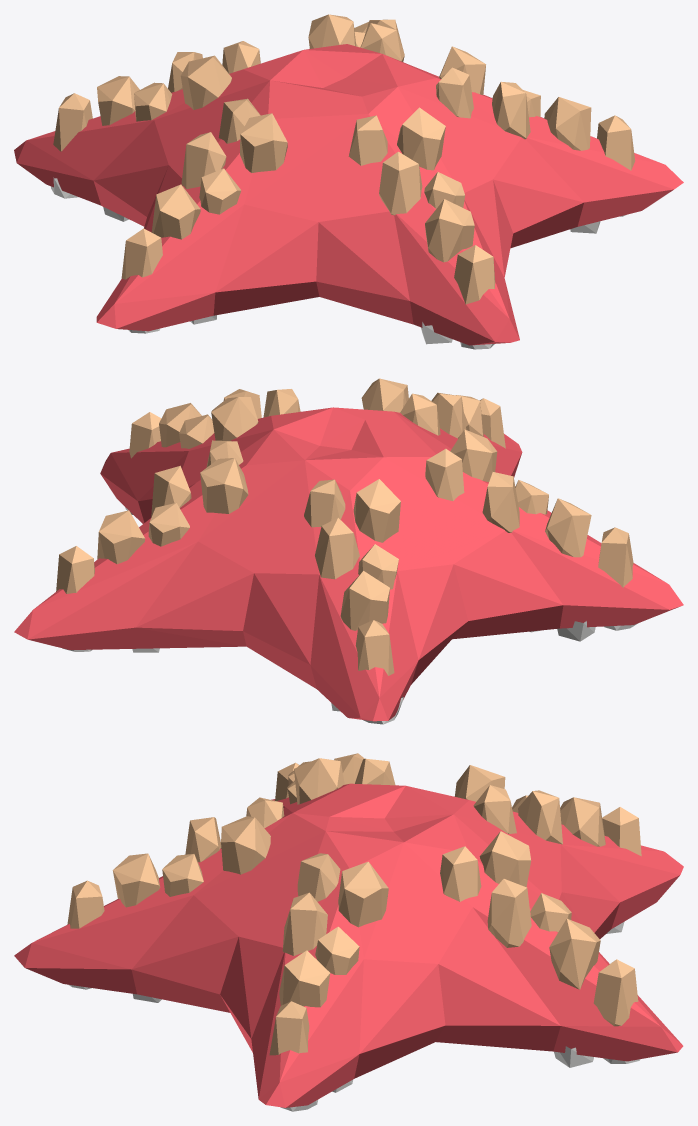
Rendered from Ingredient_starfish_1.fbx.
The picture shows the model from 3 angles, top to bottom: view 1: azimuth 30°, elevation 25°; view 2: azimuth 150°, elevation 25°; view 3: azimuth 270°, elevation 25°; orthographic projection. The views are drawn at different scales.
Visible parts, largest first — view 1: StarFish.001; view 2: StarFish.001; view 3: StarFish.001.
Part boxes in pixels (left/top/right/bottom): StarFish.001: left=14, top=14, right=683, bottom=349; StarFish.001: left=14, top=378, right=683, bottom=724; StarFish.001: left=14, top=753, right=683, bottom=1111.
Size of the model in its own units: 28.8 by 8.26 by 27.48.
